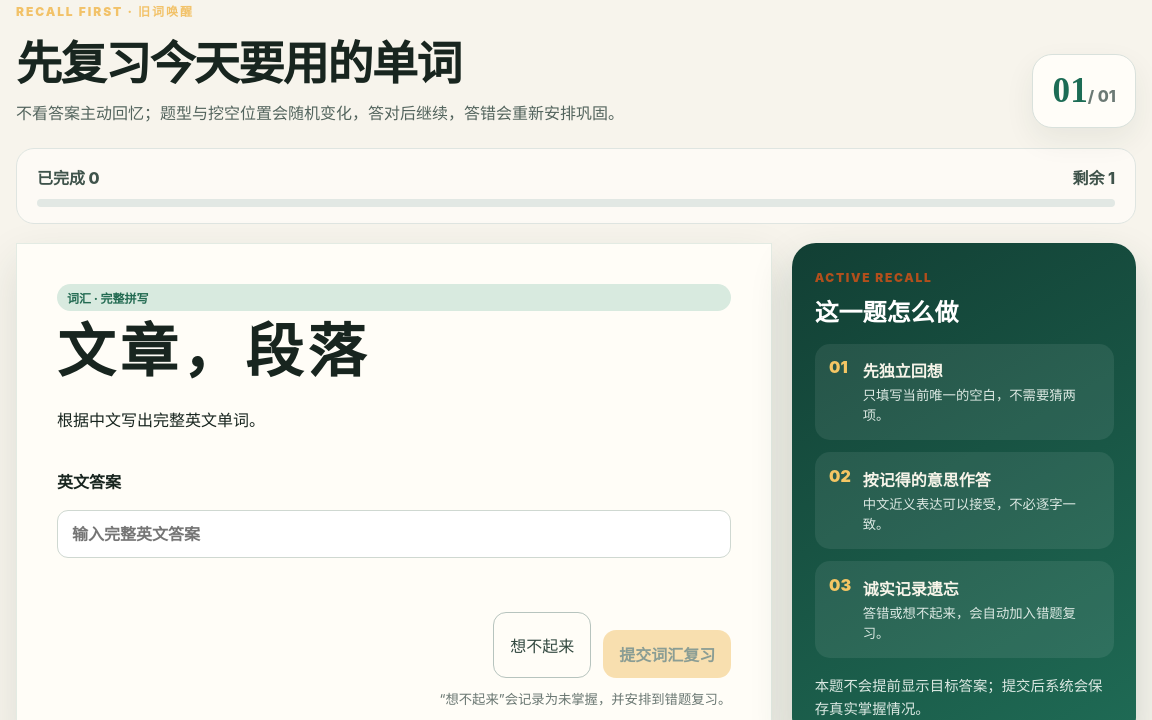
Test: DailyVocabularySession › tests due old words before showing a new word
Expected: the heading "先复习今天要用的单词" is shown, [16,35,461,91]
Expected: the text "已完成 0" is shown, [37,165,100,189]
Type "wrong" into the field labelled "英文答案" at (394, 534), box [57,510,731,558]
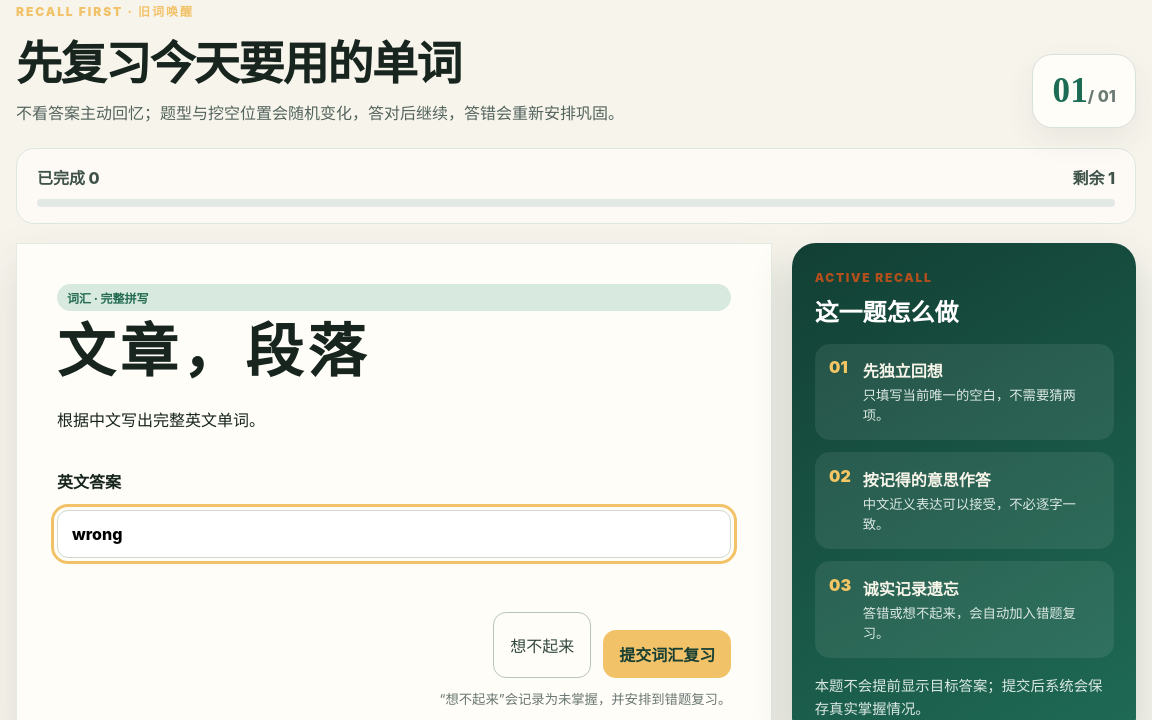
Click the button "提交词汇复习" at (667, 654), box [603,630,731,678]
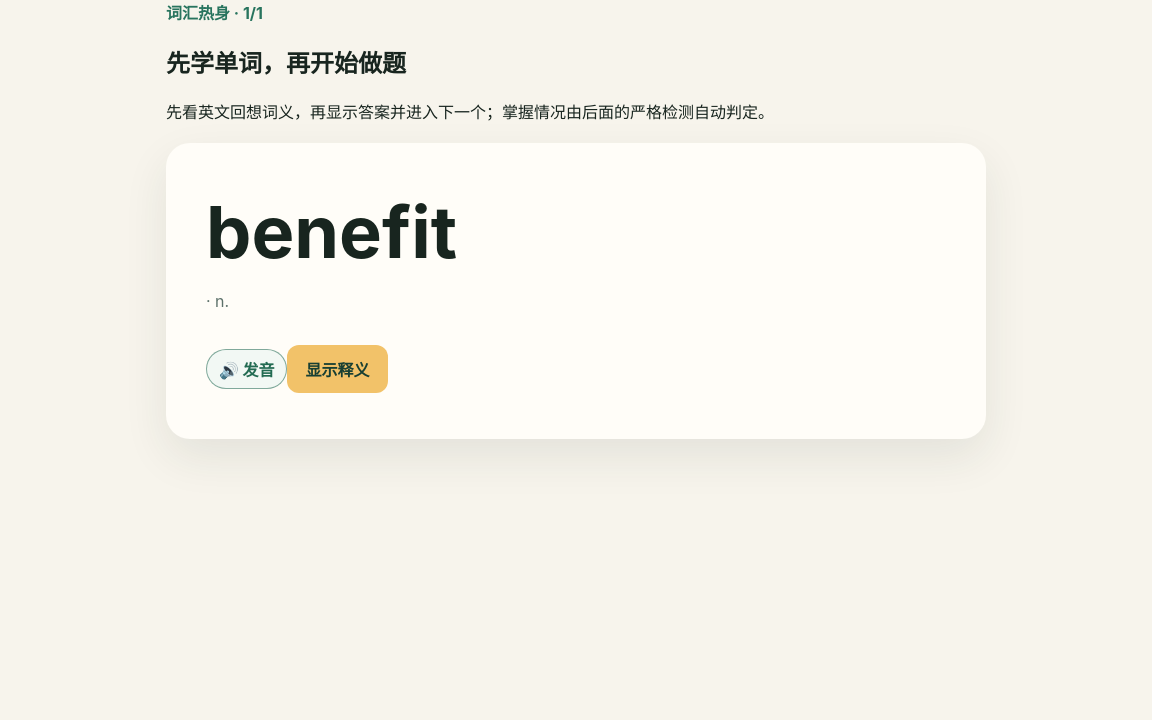
Expected: the heading "benefit" is shown, [206,188,457,275]
